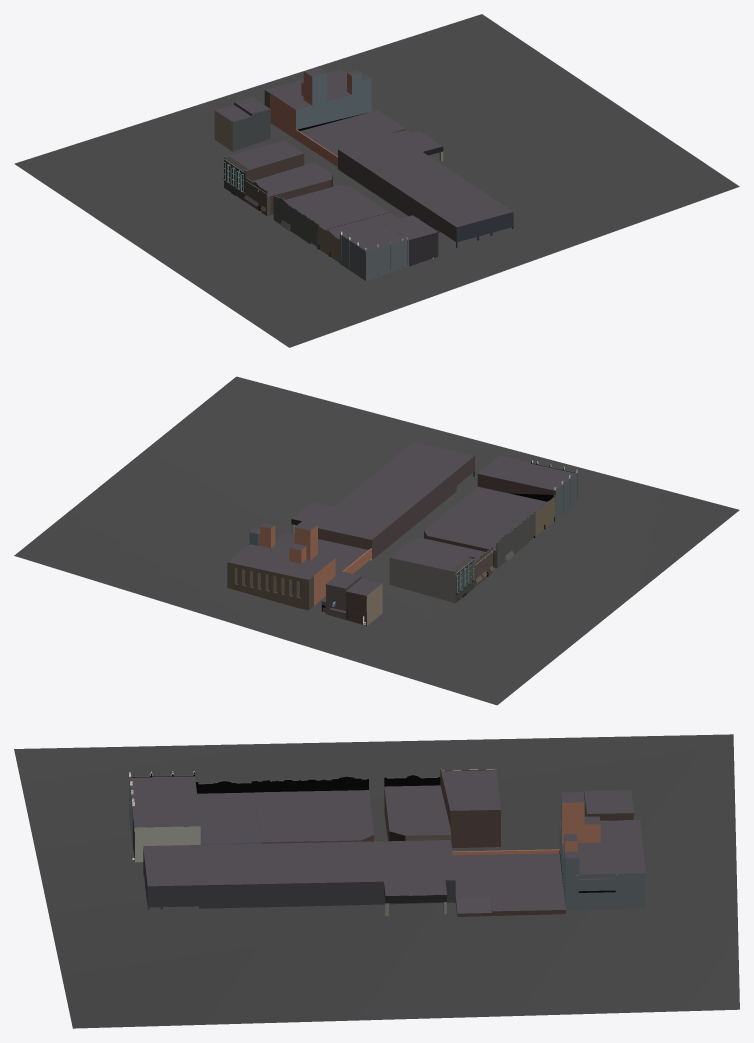
File: 700-cherry-street-block.glb
3 renders of one model, top to bottom at view 1: azimuth 30°, elevation 25°; view 2: azimuth 150°, elevation 25°; view 3: azimuth 270°, elevation 25°, orthographic. The views are drawn at different scales.
Parts seen in each view (by area): view 1: LOD0; view 2: LOD0; view 3: LOD0.
Part boxes in pixels (left/top/right/bottom): LOD0: left=14, top=14, right=739, bottom=347; LOD0: left=14, top=376, right=739, bottom=705; LOD0: left=14, top=734, right=739, bottom=1028.
Size of what is drawn, in the model's own units: 204 by 29.96 by 187.
2 materials, 2 textured.
